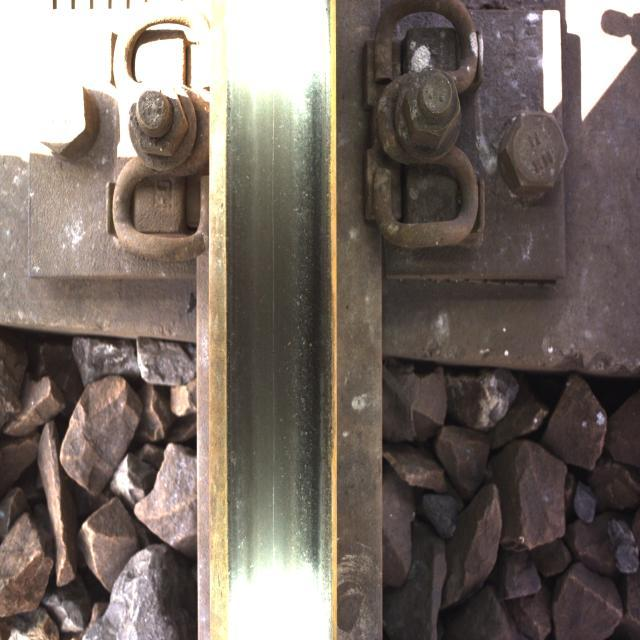normal: (236, 69, 332, 589)
